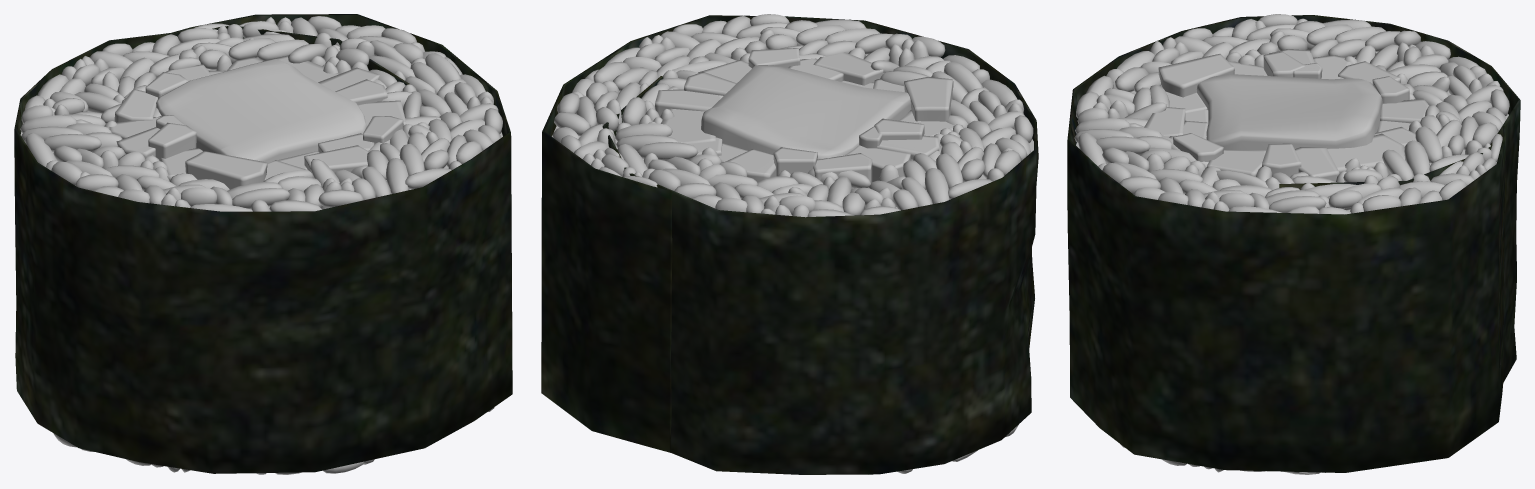
Rendered from RiceRoll_4.fbx.
3 views of the same model, side by side, from view 1: azimuth 30°, elevation 25°; view 2: azimuth 150°, elevation 25°; view 3: azimuth 270°, elevation 25° (orthographic). The views are drawn at different scales.
Parts seen in each view (by area): view 1: RiceRoll_4; view 2: RiceRoll_4; view 3: RiceRoll_4.
Part boxes in pixels (x1=…): RiceRoll_4: x1=14, y1=14, x2=512, y2=474; RiceRoll_4: x1=541, y1=14, x2=1038, y2=474; RiceRoll_4: x1=1067, y1=14, x2=1520, y2=474.
Size of the model in its own units: 8.75 by 6 by 8.24.
